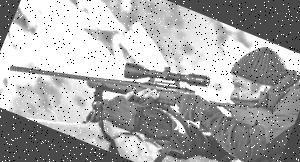sniper: (4, 0, 290, 162)
